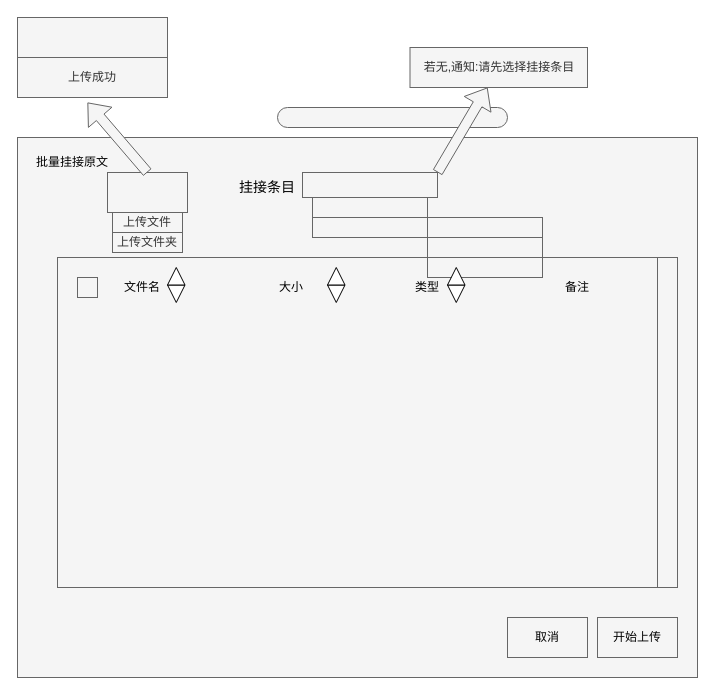
Some shapes in this 715 by 695 pixel diagram are drawn without their labels. Each missing label, with the centre of its shape:
"上传" belongs at pixel 147 192.
"上传失败" belongs at pixel 92 37.
"上传进度" belongs at pixel 392 117.
